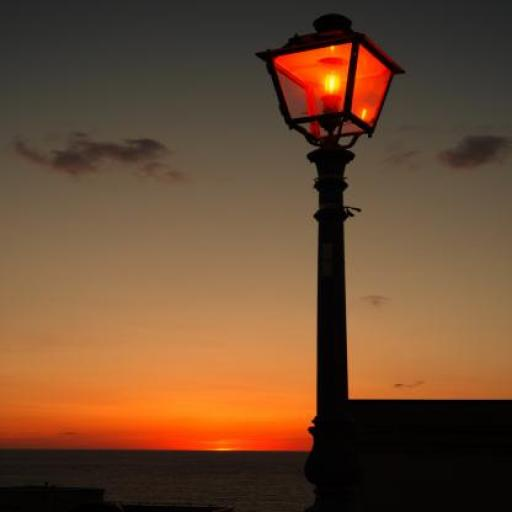street light: (256, 15, 407, 511)
